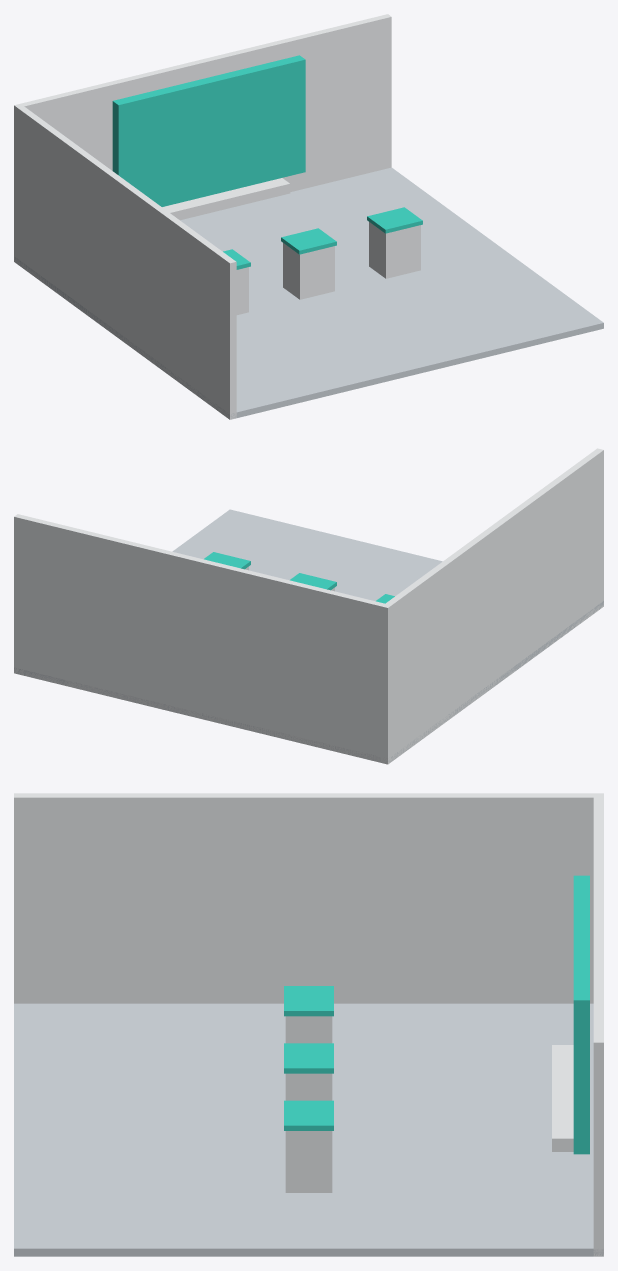
3 views of the same model, one above another, from view 1: azimuth 30°, elevation 25°; view 2: azimuth 150°, elevation 25°; view 3: azimuth 270°, elevation 25° (orthographic). The views are drawn at different scales.
Parts seen in each view (by area): view 1: Exhibition Booth Concept; view 2: Exhibition Booth Concept; view 3: Exhibition Booth Concept.
Boxes of the visible parts, x1=… form: Exhibition Booth Concept: x1=14, y1=14, x2=603, y2=419; Exhibition Booth Concept: x1=14, y1=448, x2=603, y2=764; Exhibition Booth Concept: x1=14, y1=793, x2=603, y2=1256.
Size of the model in its own units: 8 by 3.2 by 8.
